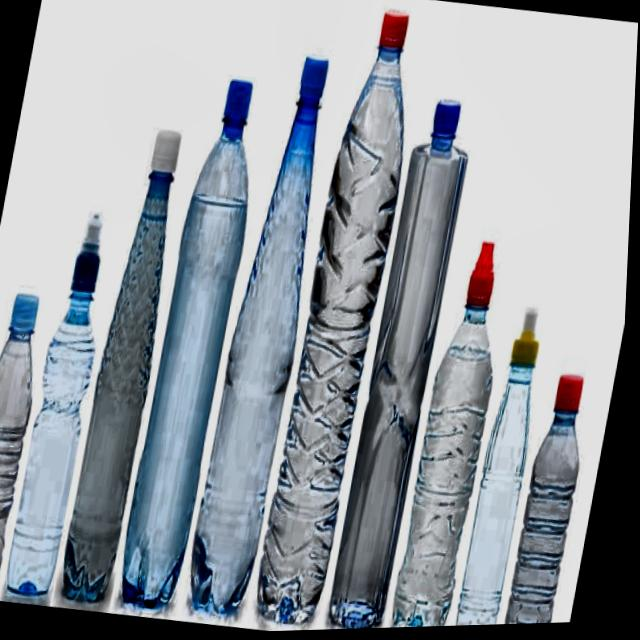Bottles: (253, 19, 430, 634), (183, 33, 355, 632), (113, 44, 283, 622), (325, 93, 487, 632), (58, 97, 206, 612), (390, 223, 526, 630), (6, 189, 129, 595), (455, 300, 563, 629), (502, 360, 607, 628), (0, 261, 63, 593)
